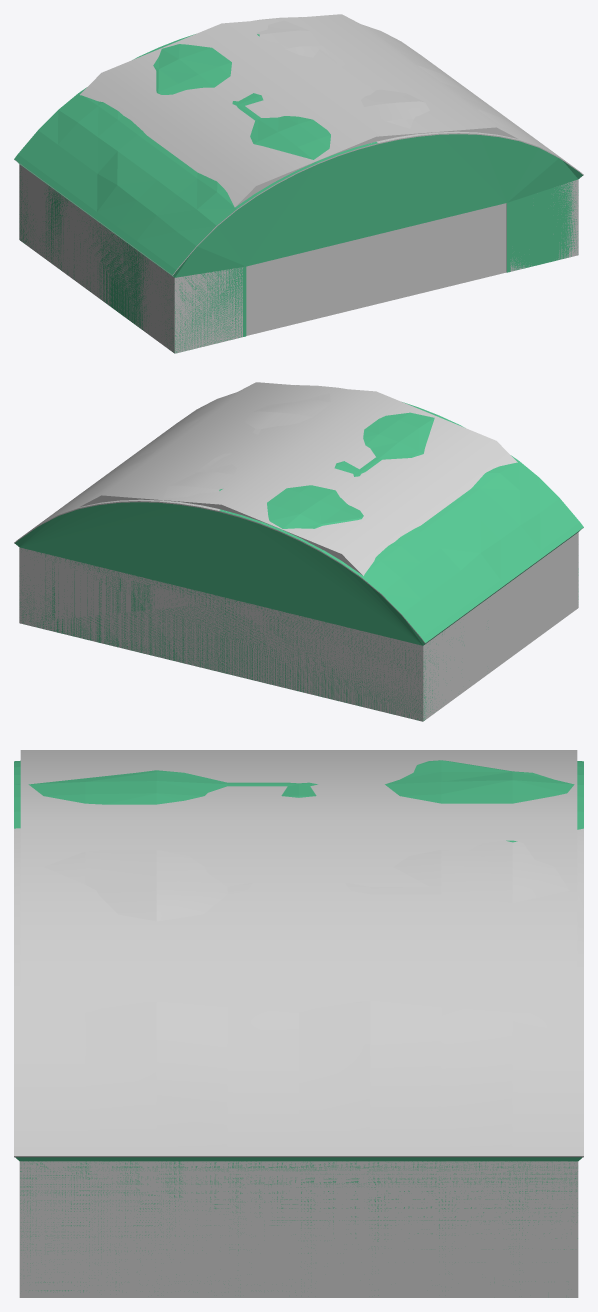
Rendered from jri_airhanger.dae.
The picture shows the model from 3 angles, top to bottom: view 1: azimuth 30°, elevation 25°; view 2: azimuth 150°, elevation 25°; view 3: azimuth 270°, elevation 25°; orthographic projection. The views are drawn at different scales.
Parts seen in each view (by area): view 1: Colmesh-1, ind_bld_a30, ind_bld_a430, ind_bld_a150; view 2: Colmesh-1, ind_bld_a30, ind_bld_a430, ind_bld_a150; view 3: ind_bld_a430, ind_bld_a30, ind_bld_a150, Colmesh-1.
Part boxes in pixels (left/top/right/bottom): Colmesh-1: left=14, top=34, right=582, bottom=353; ind_bld_a30: left=19, top=14, right=518, bottom=344; ind_bld_a430: left=19, top=17, right=583, bottom=353; ind_bld_a150: left=14, top=104, right=581, bottom=353; Colmesh-1: left=15, top=402, right=583, bottom=721; ind_bld_a30: left=79, top=382, right=578, bottom=714; ind_bld_a430: left=14, top=385, right=578, bottom=721; ind_bld_a150: left=19, top=472, right=583, bottom=721; ind_bld_a430: left=14, top=828, right=583, bottom=1297; ind_bld_a30: left=20, top=750, right=577, bottom=1297; ind_bld_a150: left=14, top=851, right=583, bottom=1297; Colmesh-1: left=14, top=760, right=583, bottom=1295.
Size of the model in its own units: 45.87 by 30.6 by 17.85.
